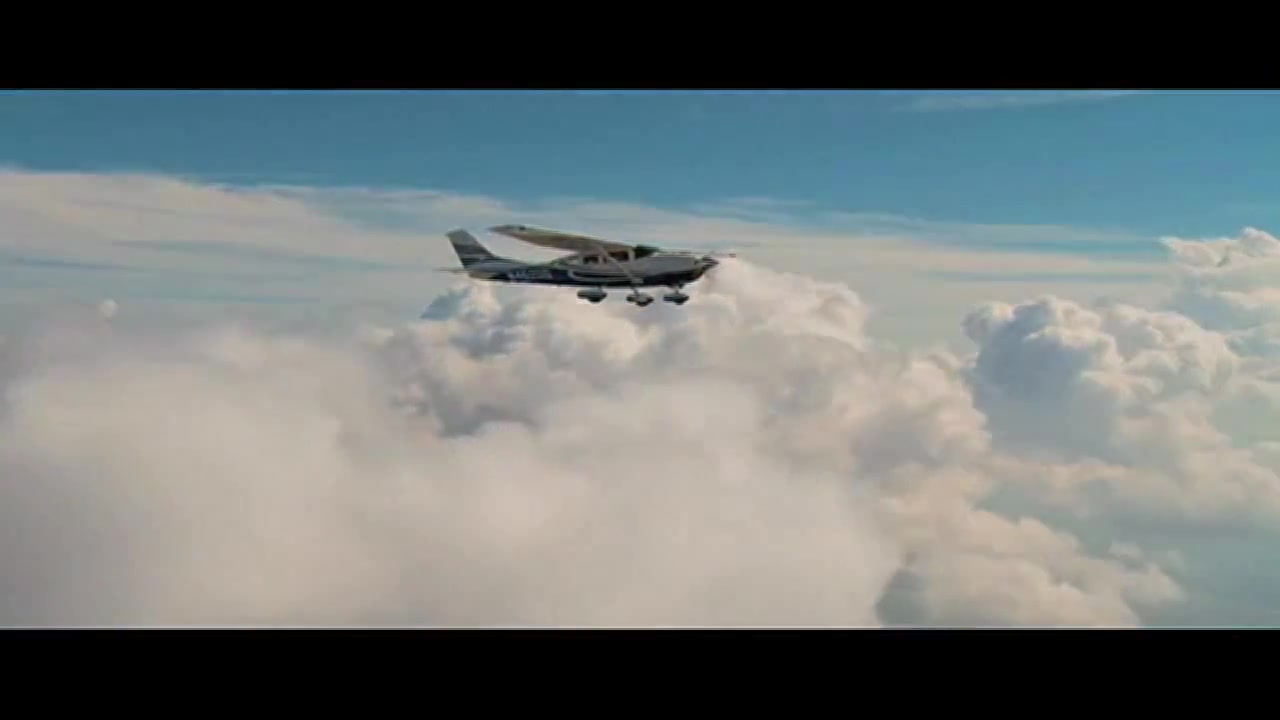aeroplane: (438, 219, 740, 308)
